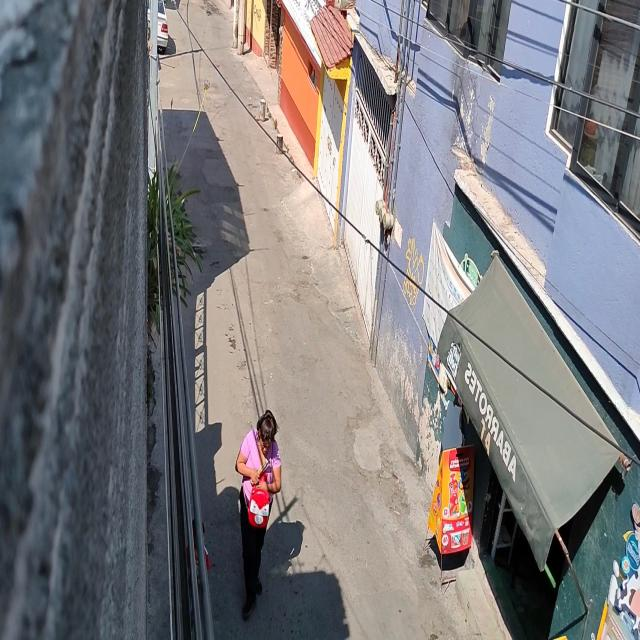adult: (235, 410, 282, 624)
